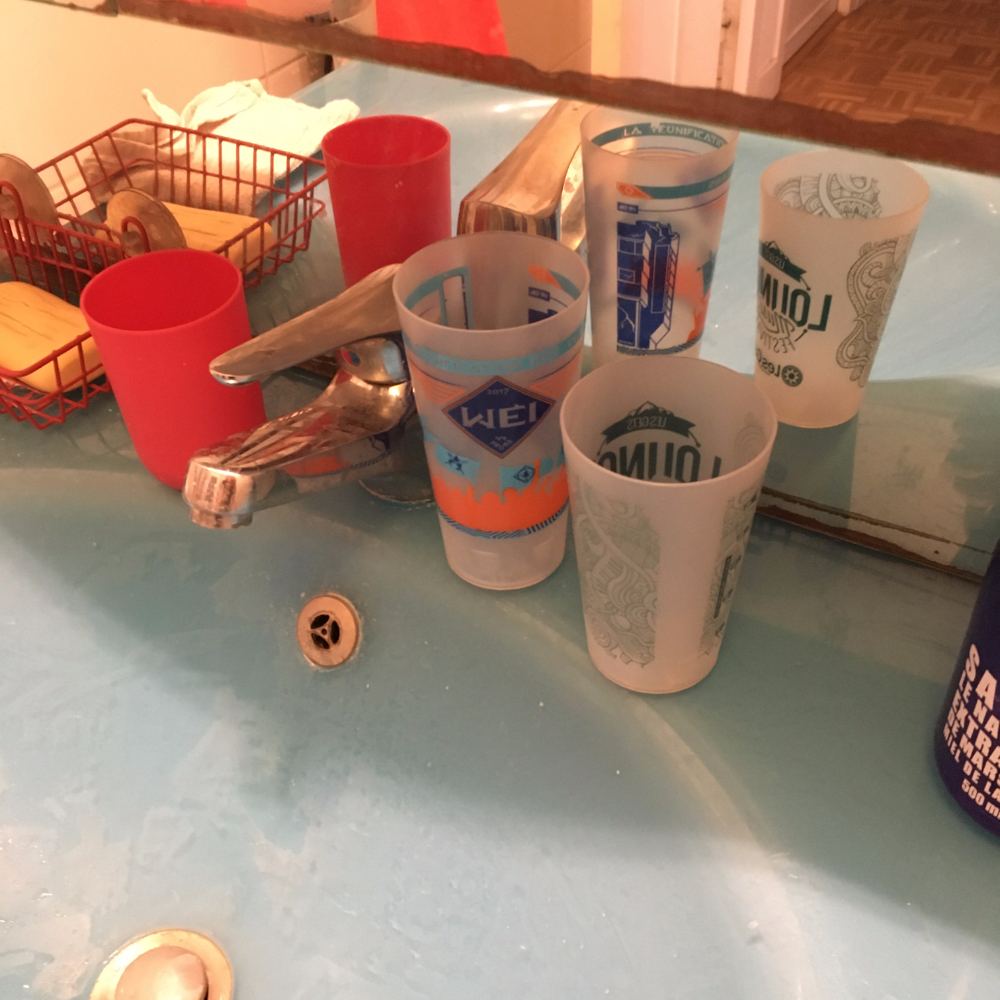ecocup: (560, 356, 776, 695), (392, 230, 590, 592), (753, 149, 931, 431), (580, 104, 740, 372)
